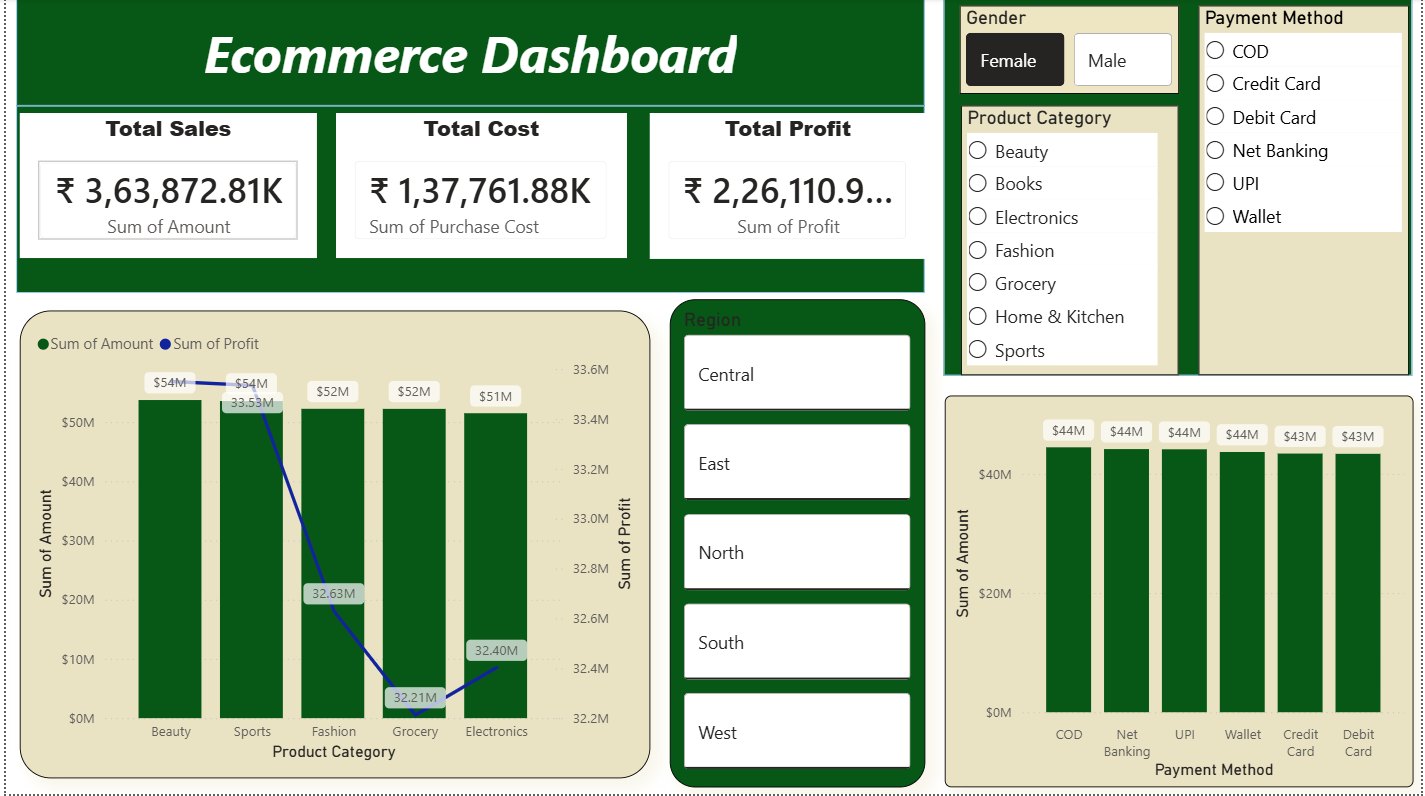

Layout of this report page (visuals, bound fields, positions):
{"tool":"powerbi","page":{"name":"Page 1","canvas":[1280,720],"ordinal":0},"visuals":[{"type":"shape","box":[9.3,0,822.1,97.7],"z":0},{"type":"shape","box":[9.3,97.7,822.1,169.8],"z":1000},{"type":"shape","box":[848,0,424,341.7],"z":2000},{"type":"advancedSlicerVisual","fields":{"Values":["Ecommerce Sales Data.Gender"]},"box":[862.9,7.1,198.6,80],"z":3000},{"type":"listSlicer","fields":{"Values":["Ecommerce Sales Data.Payment Method"]},"box":[1078.6,7.1,190,334.3],"z":4000},{"type":"listSlicer","fields":{"Values":["Ecommerce Sales Data.Product Category"]},"box":[864.3,97.1,197.1,244.3],"z":5000},{"type":"cardVisual","title":"Total Sales","fields":{"Data":["Sum(Ecommerce Sales Data.Amount)"]},"box":[12.9,104.3,268.6,131.4],"z":6000},{"type":"cardVisual","title":"Total Cost","fields":{"Data":["Sum(Ecommerce Sales Data.Purchase Cost)"]},"box":[298.6,104.3,262.9,131.4],"z":7000},{"type":"cardVisual","title":"Total Profit","fields":{"Data":["Sum(Ecommerce Sales Data.Profit)"]},"box":[581.8,104.3,249.7,131.7],"z":8000},{"type":"lineClusteredColumnComboChart","fields":{"Category":["Ecommerce Sales Data.Product Category"],"Y":["Sum(Ecommerce Sales Data.Amount)"],"Y2":["Sum(Ecommerce Sales Data.Profit)"]},"box":[12.9,282.9,570,422.9],"z":9000},{"type":"advancedSlicerVisual","fields":{"Values":["Ecommerce Sales Data.Region"]},"box":[600,272.9,231.4,441.4],"z":10000},{"type":"lineClusteredColumnComboChart","fields":{"Category":["Ecommerce Sales Data.Payment Method"],"Y":["Sum(Ecommerce Sales Data.Amount)"]},"box":[848.6,360,424.3,354.3],"z":11000}]}

Visuals, with their boxes in screenshot pixels (x1, y1, x2, y2), scaled from the page's 1280x720 canvas onto the 1425x796 screenshot:
shape: 10/0/926/108
shape: 10/108/926/296
shape: 944/0/1416/378
advancedSlicerVisual - Ecommerce Sales Data.Gender: 961/8/1182/96
listSlicer - Ecommerce Sales Data.Payment Method: 1201/8/1412/377
listSlicer - Ecommerce Sales Data.Product Category: 962/107/1182/377
"Total Sales" cardVisual: 14/115/313/261
"Total Cost" cardVisual: 332/115/625/261
"Total Profit" cardVisual: 648/115/926/261
lineClusteredColumnComboChart - Ecommerce Sales Data.Product Category x Sum(Ecommerce Sales Data.Amount): 14/313/649/780
advancedSlicerVisual - Ecommerce Sales Data.Region: 668/302/926/790
lineClusteredColumnComboChart - Ecommerce Sales Data.Payment Method x Sum(Ecommerce Sales Data.Amount): 945/398/1417/790
